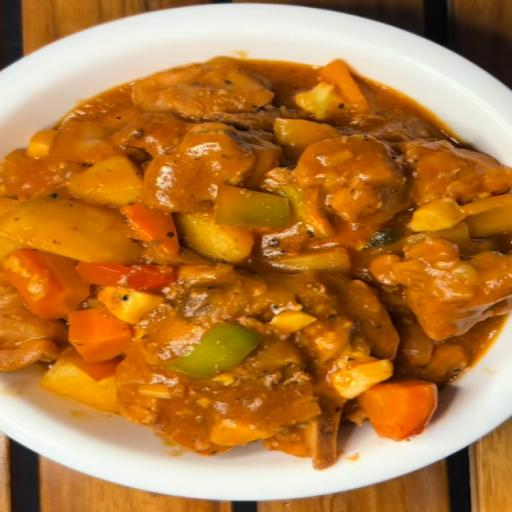pork caldereta: (0, 74, 512, 472)
